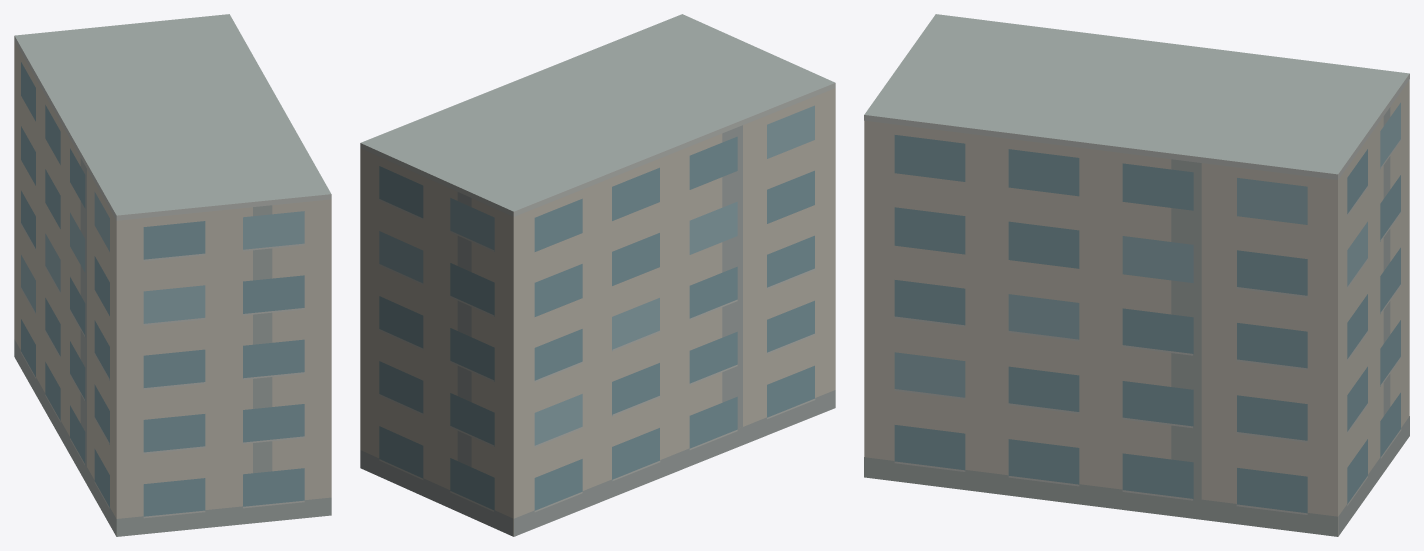
File: survey-upis-32871012.glb
3 views of the same model, side by side, from view 1: azimuth 30°, elevation 25°; view 2: azimuth 150°, elevation 25°; view 3: azimuth 270°, elevation 25° (orthographic). The views are drawn at different scales.
Parts seen in each view (by area): view 1: survey-upis-32871012.tmp; view 2: survey-upis-32871012.tmp; view 3: survey-upis-32871012.tmp.
Boxes of the visible parts, box(x1,y1,x2,y2) form: survey-upis-32871012.tmp: box(14, 14, 331, 536); survey-upis-32871012.tmp: box(360, 14, 835, 536); survey-upis-32871012.tmp: box(864, 14, 1409, 536).
Size of the model in its own units: 14.48 by 15.25 by 20.82.
